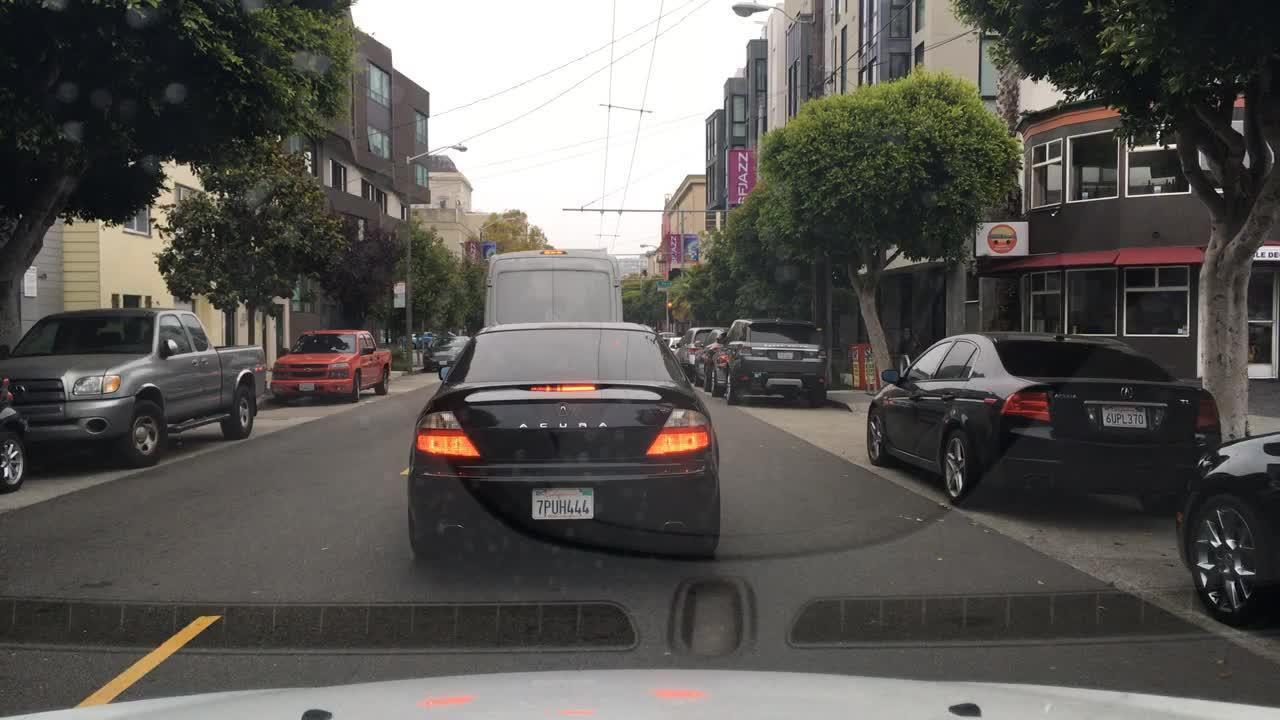acura: (551, 397, 577, 422), (1115, 382, 1139, 405)
